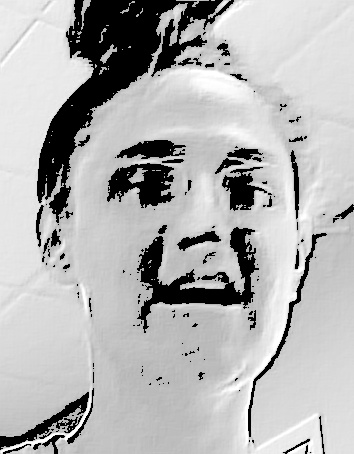nose_M_C: (175, 179, 227, 264)
